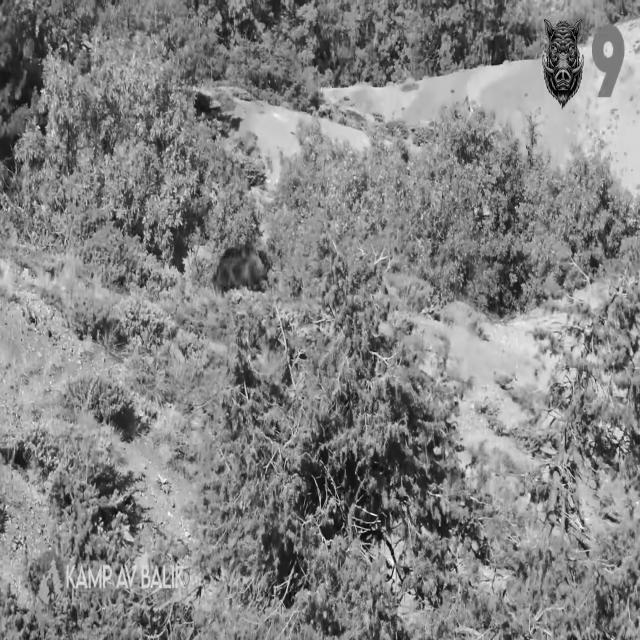boar: (542, 19, 583, 107), (216, 246, 266, 289)
